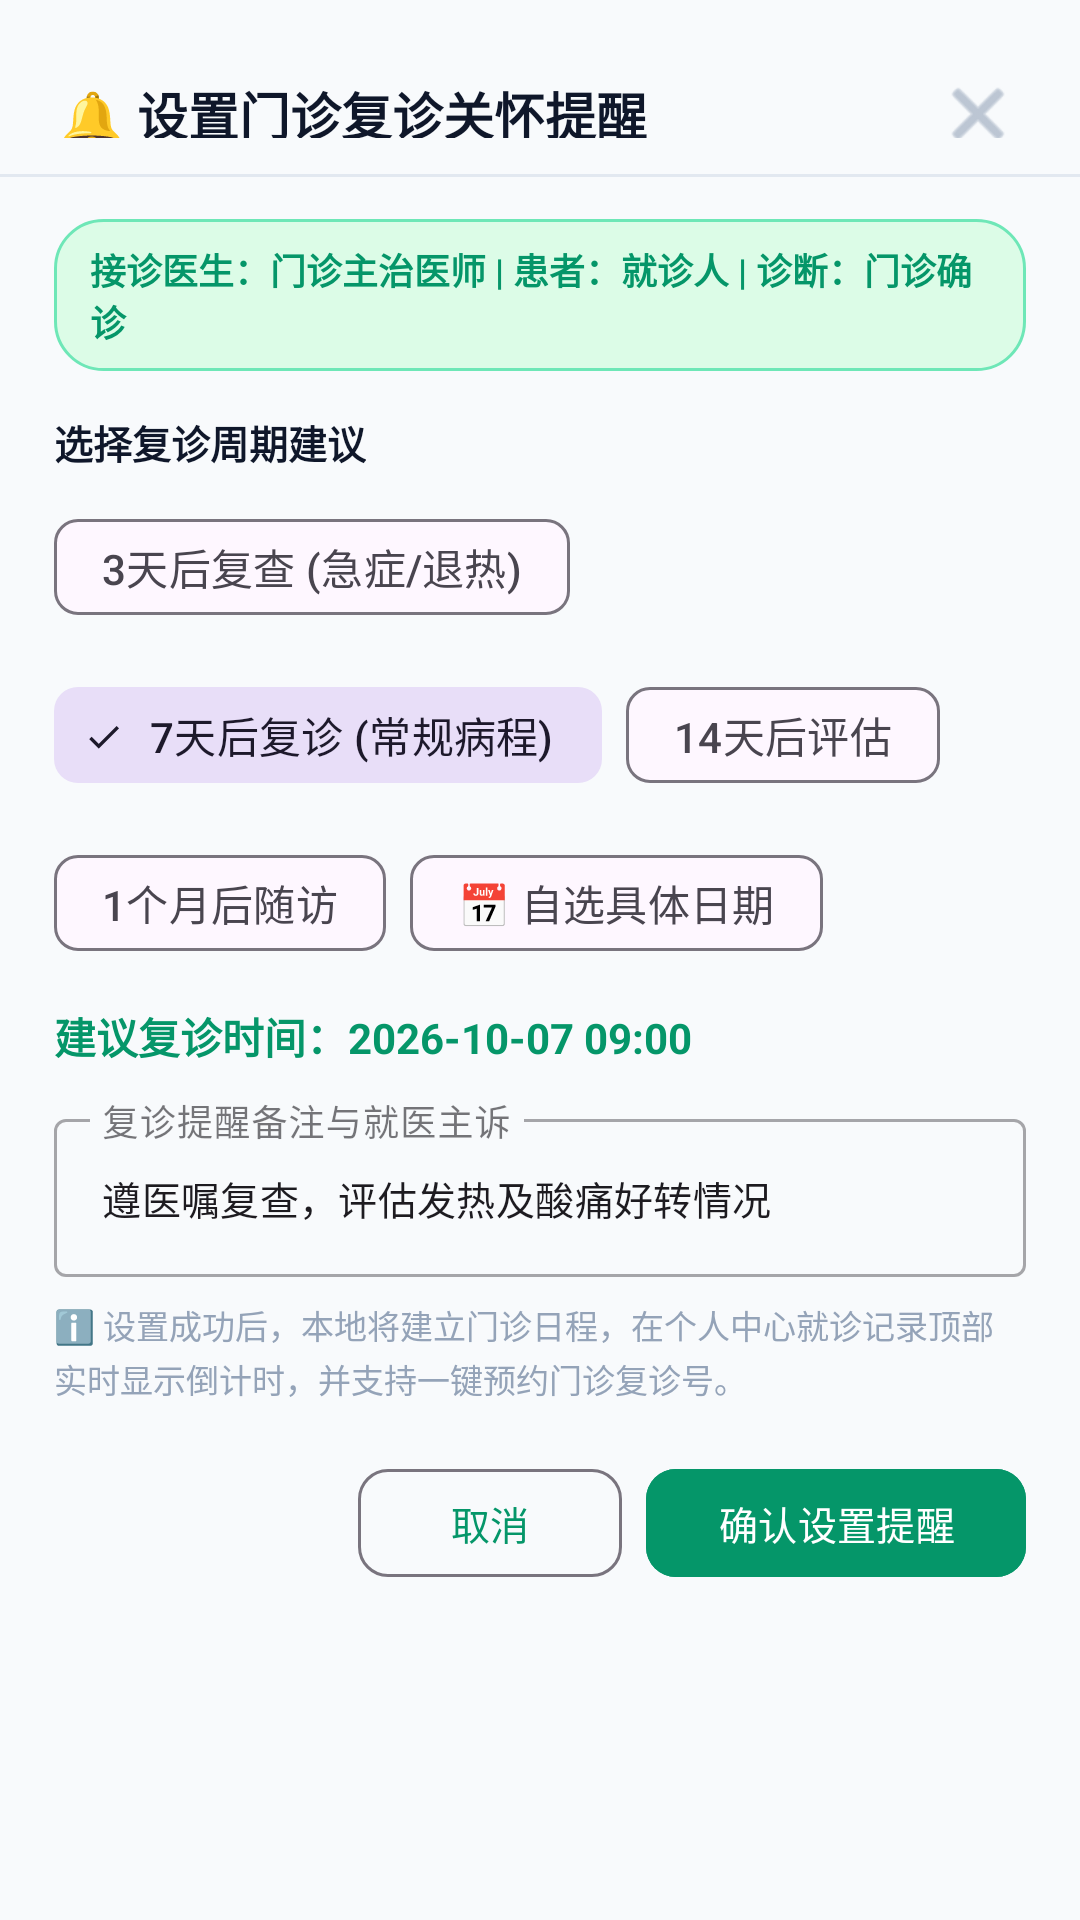

Icons on this 1080w x 1920h Android screen, each with its box as (x1,y1,x2,y2):
关闭: (952,88,1004,138)
